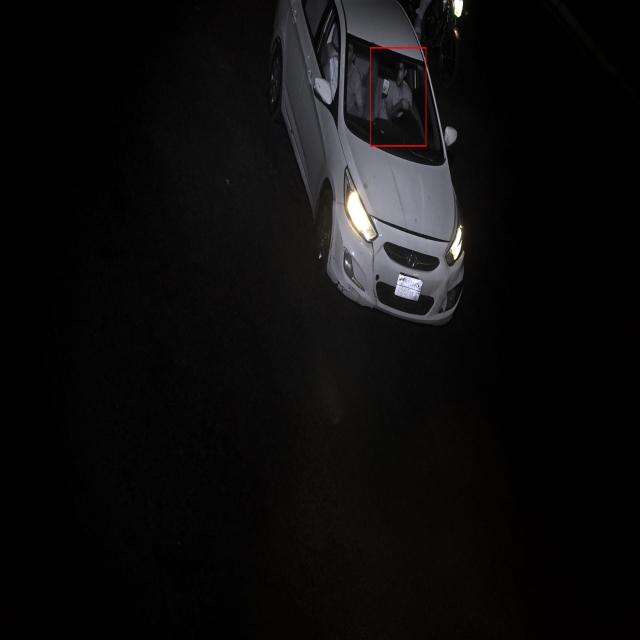windshield: (338, 20, 446, 176)
